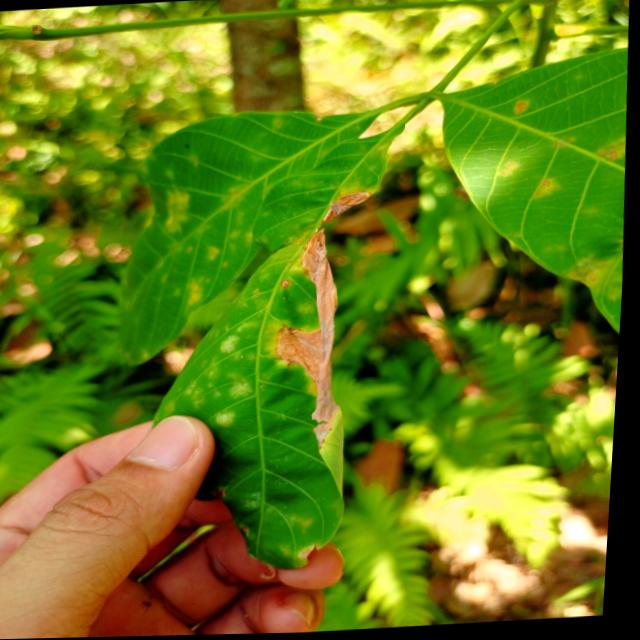Leaf-Blight: (270, 228, 358, 453), (324, 190, 377, 224), (306, 545, 328, 562)
